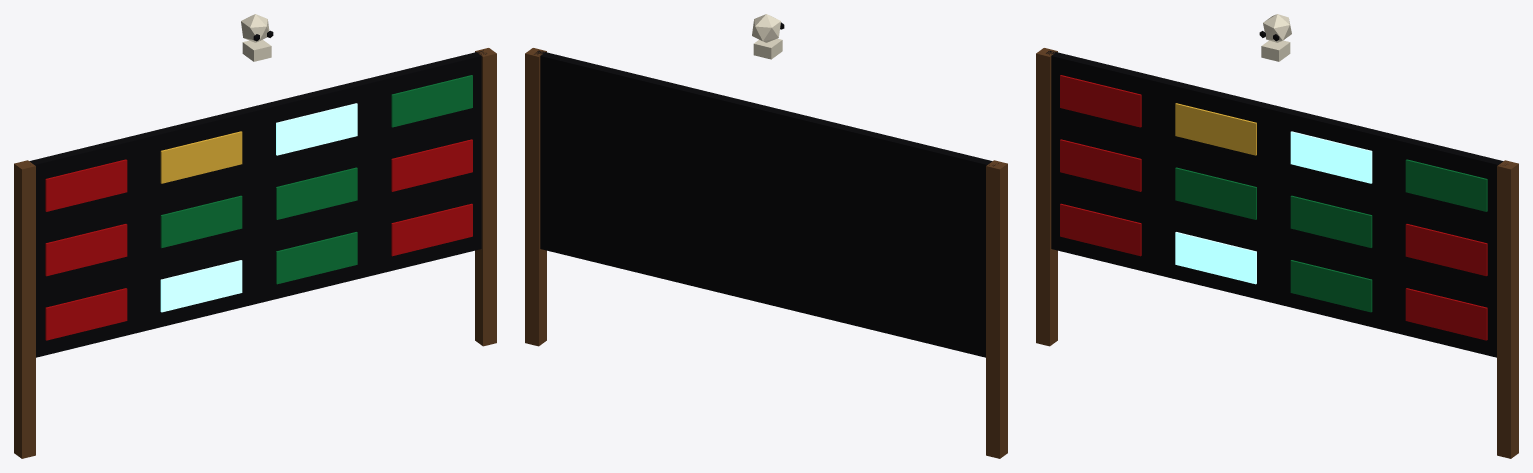
The model's file is Prop_OR_OddsBoard_19.glb.
3 views of the same model, side by side, from view 1: azimuth 30°, elevation 25°; view 2: azimuth 150°, elevation 25°; view 3: azimuth 330°, elevation 25° (orthographic).
Parts seen in each view (by area): view 1: Prop_OR_OddsBoard_19; view 2: Prop_OR_OddsBoard_19; view 3: Prop_OR_OddsBoard_19.
Part boxes in pixels (left/top/right/bottom): Prop_OR_OddsBoard_19: left=14, top=14, right=496, bottom=458; Prop_OR_OddsBoard_19: left=525, top=14, right=1007, bottom=458; Prop_OR_OddsBoard_19: left=1036, top=14, right=1518, bottom=458.
Size of the model in its own units: 5.15 by 3.98 by 0.3057.
